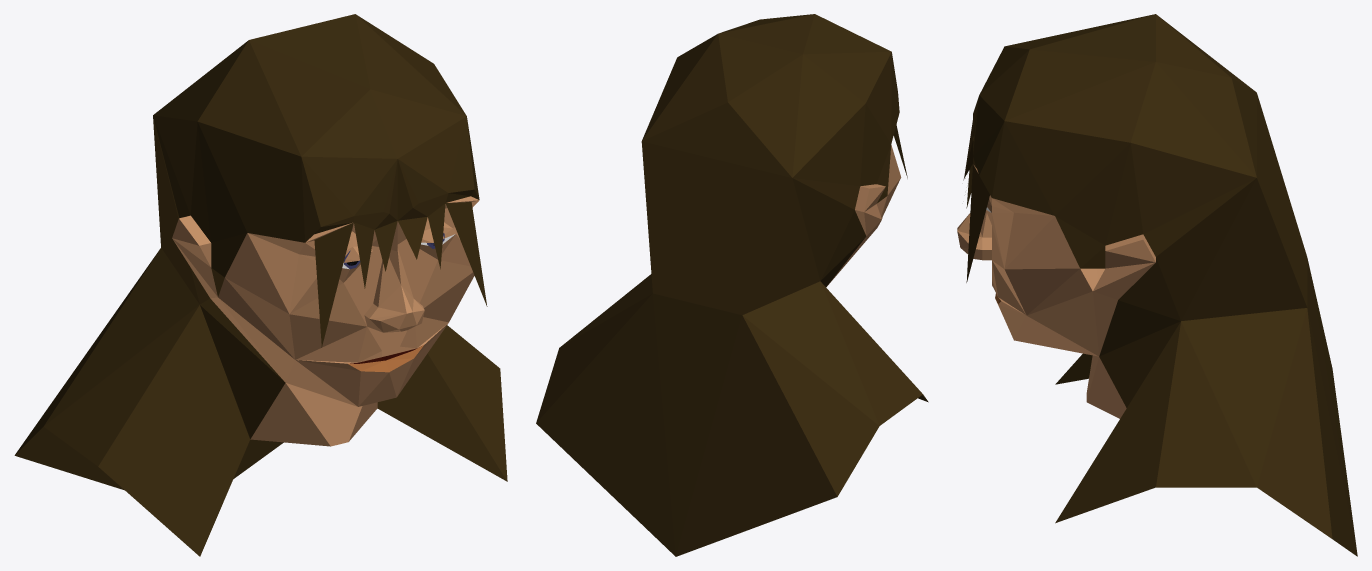
The model's file is model_113_idk_head.obj.
The picture shows the model from 3 angles, left to right: view 1: azimuth 30°, elevation 25°; view 2: azimuth 150°, elevation 25°; view 3: azimuth 270°, elevation 25°; orthographic projection. The views are drawn at different scales.
Parts seen in each view (by area): view 1: 113; view 2: 113; view 3: 113.
Boxes of the visible parts, x1,y1,x2,y2 form: 113: [14, 14, 507, 556]; 113: [536, 14, 928, 556]; 113: [957, 14, 1357, 556].
Bounding box in the file's own units: 136 × 182 × 127.
